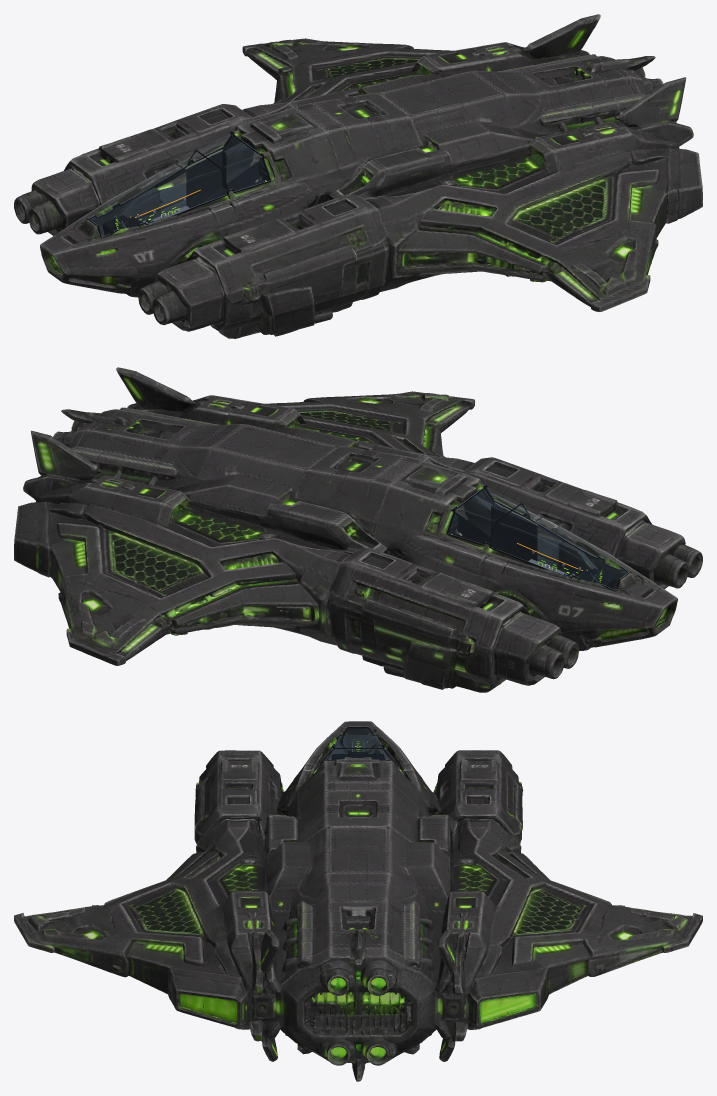
Rendered from slayer_cockpit_v04.glb.
The picture shows the model from 3 angles, top to bottom: view 1: azimuth 30°, elevation 25°; view 2: azimuth 150°, elevation 25°; view 3: azimuth 270°, elevation 25°; orthographic projection. The views are drawn at different scales.
Parts seen in each view (by area): view 1: Slayer_Hull_01_Glazed, LIN13_slayer_ConformalCabinShell, Slayer_v04_L_InnerSillLiner, Slayer_Windshield_Glass, GL11_slayer_CanopyGasket_0, Slayer_v04_L_TaperedSidewall, GL11_slayer_CanopyFrame_0, GL11_slayer_AftCanopyArch; view 2: Slayer_Hull_01_Glazed, LIN13_slayer_ConformalCabinShell, Slayer_v04_R_InnerSillLiner, Slayer_Windshield_Glass, GL11_slayer_CanopyGasket_0, GL11_slayer_CanopyFrame_0, GL11_slayer_AftCanopyArch, Slayer_v04_R_TaperedSidewall; view 3: Slayer_Hull_01_Glazed, LIN13_slayer_ConformalCabinShell.
Boxes of the visible parts, x1=… form: Slayer_Hull_01_Glazed: x1=14, y1=14, x2=702, y2=338; LIN13_slayer_ConformalCabinShell: x1=74, y1=133, x2=282, y2=266; Slayer_v04_L_InnerSillLiner: x1=186, y1=151, x2=226, y2=207; Slayer_Windshield_Glass: x1=90, y1=134, x2=259, y2=225; GL11_slayer_CanopyGasket_0: x1=82, y1=131, x2=271, y2=237; Slayer_v04_L_TaperedSidewall: x1=213, y1=159, x2=262, y2=198; GL11_slayer_CanopyFrame_0: x1=83, y1=131, x2=269, y2=237; GL11_slayer_AftCanopyArch: x1=102, y1=150, x2=228, y2=235; Slayer_Hull_01_Glazed: x1=14, y1=367, x2=702, y2=692; LIN13_slayer_ConformalCabinShell: x1=387, y1=487, x2=656, y2=674; Slayer_v04_R_InnerSillLiner: x1=491, y1=503, x2=537, y2=561; Slayer_Windshield_Glass: x1=458, y1=487, x2=627, y2=580; GL11_slayer_CanopyGasket_0: x1=446, y1=485, x2=635, y2=591; GL11_slayer_CanopyFrame_0: x1=448, y1=484, x2=634, y2=590; GL11_slayer_AftCanopyArch: x1=489, y1=503, x2=615, y2=588; Slayer_v04_R_TaperedSidewall: x1=455, y1=512, x2=501, y2=550; Slayer_Hull_01_Glazed: x1=14, y1=721, x2=702, y2=1081; LIN13_slayer_ConformalCabinShell: x1=275, y1=728, x2=464, y2=814.
Size of the model in its own units: 1.87 by 0.4925 by 1.9.
Materials: 21 (1 with a texture image).
